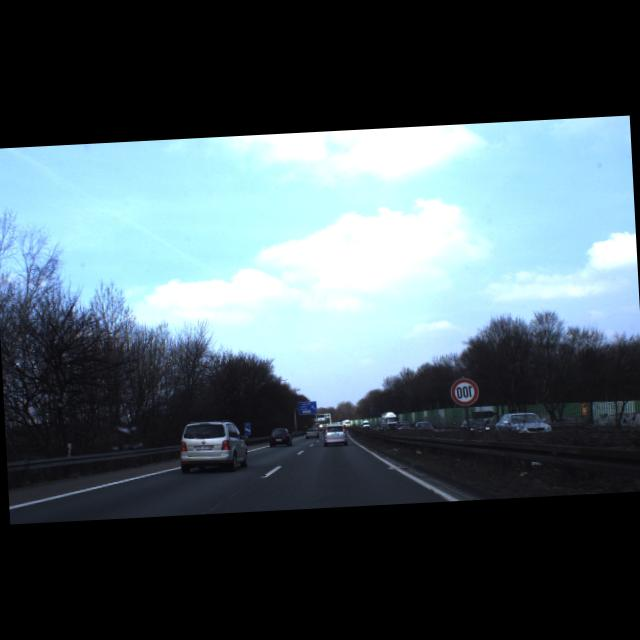prohibitory: (450, 378, 480, 407)
